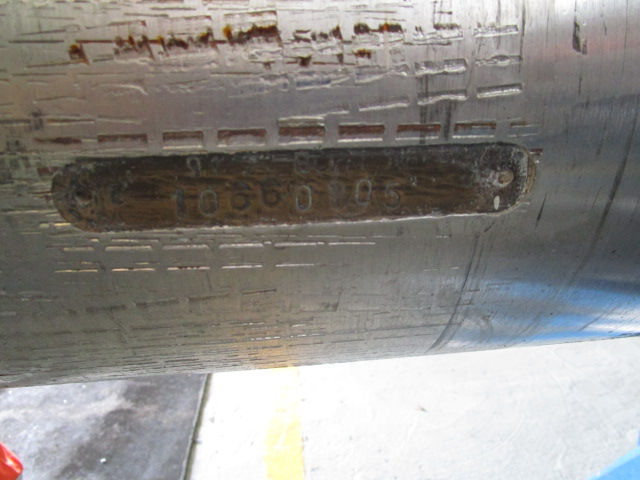character: (225, 177, 255, 213), (259, 175, 287, 211), (166, 185, 190, 219), (196, 185, 220, 219), (293, 182, 317, 215), (382, 178, 403, 212), (356, 175, 375, 209)
